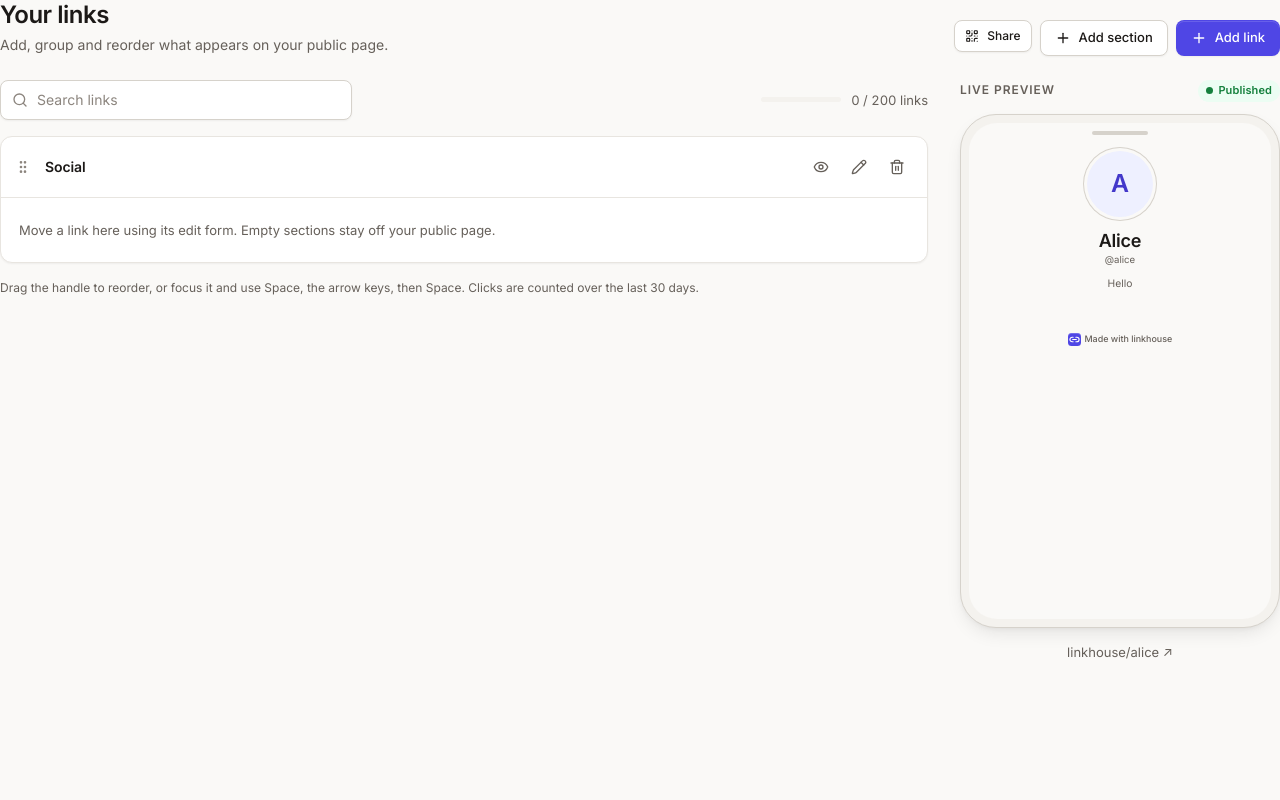
Test: loads the current section name for rename
Click the button named "Rename Social" at (859, 167), box x1=841 y1=149 x2=877 y2=185
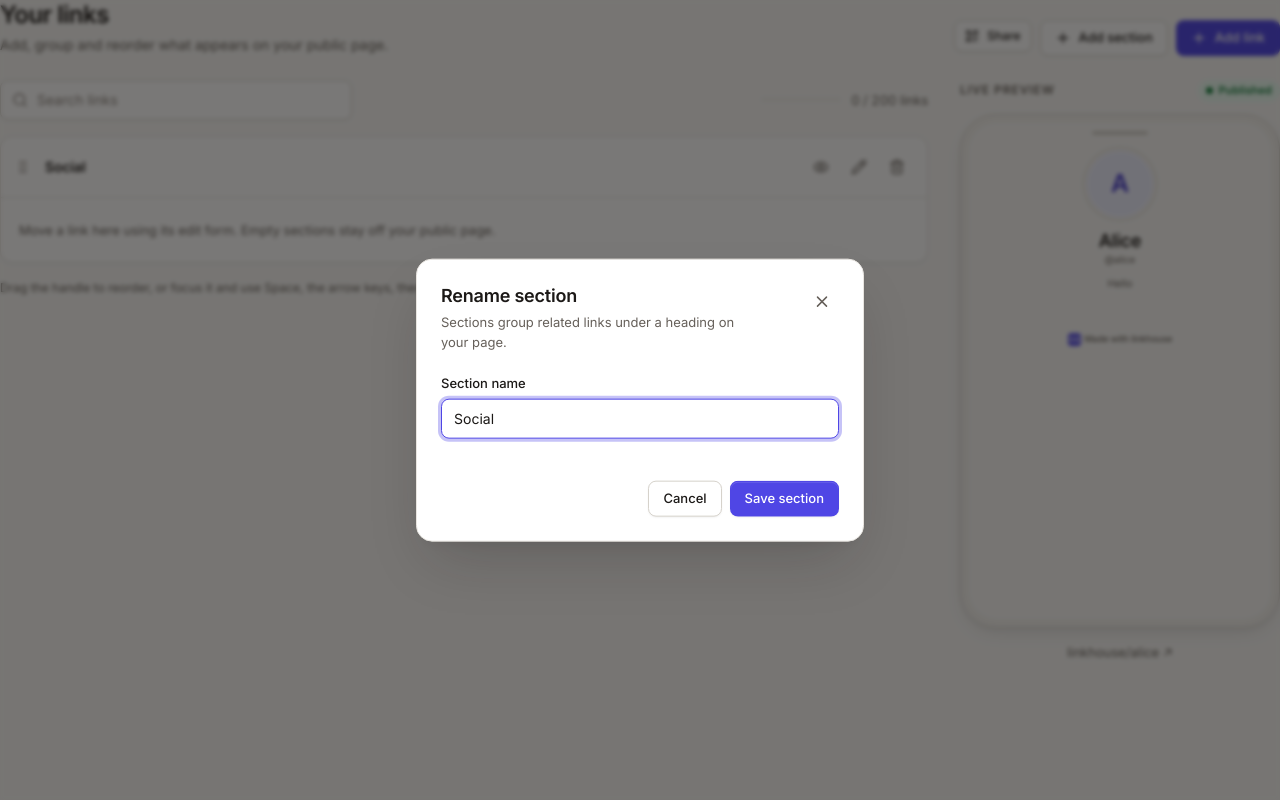
Now the field labelled "Section name" holds "Social", box x1=441 y1=398 x2=839 y2=438
Press Escape
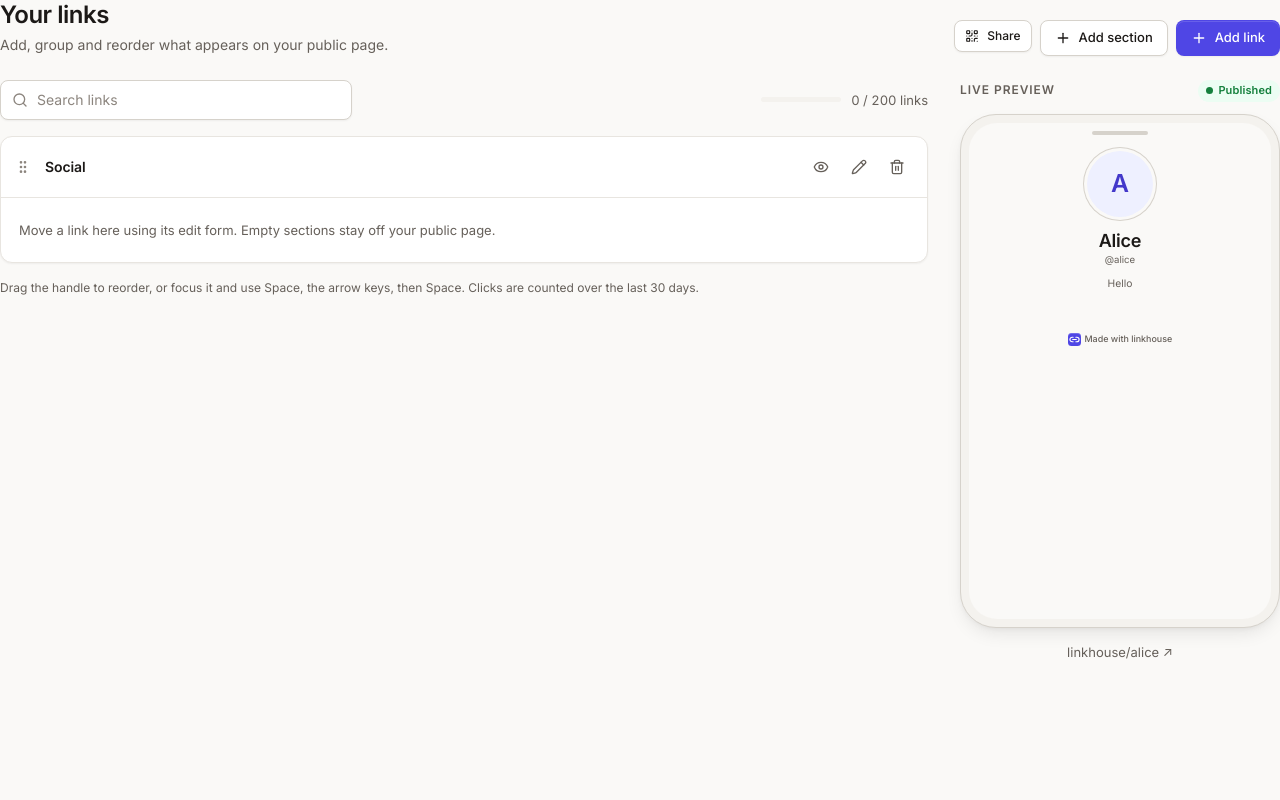
Now the dialog is gone
